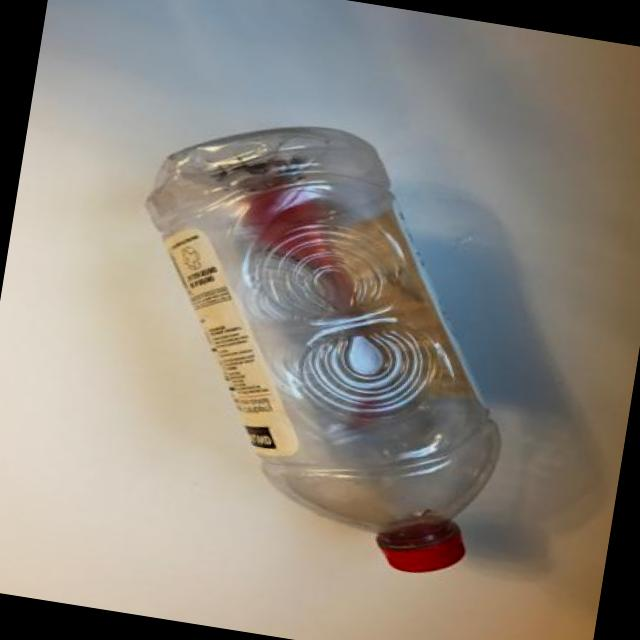bottle: (147, 127, 499, 571)
plastic: (148, 127, 499, 553), (377, 523, 464, 572)
